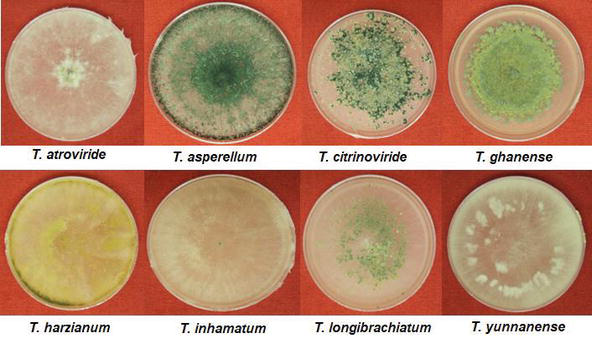Trichoderma: (161, 27, 283, 112), (163, 196, 276, 283), (465, 195, 565, 293), (15, 28, 133, 111), (463, 30, 566, 115), (24, 199, 124, 285), (325, 31, 423, 109), (341, 202, 415, 281)
